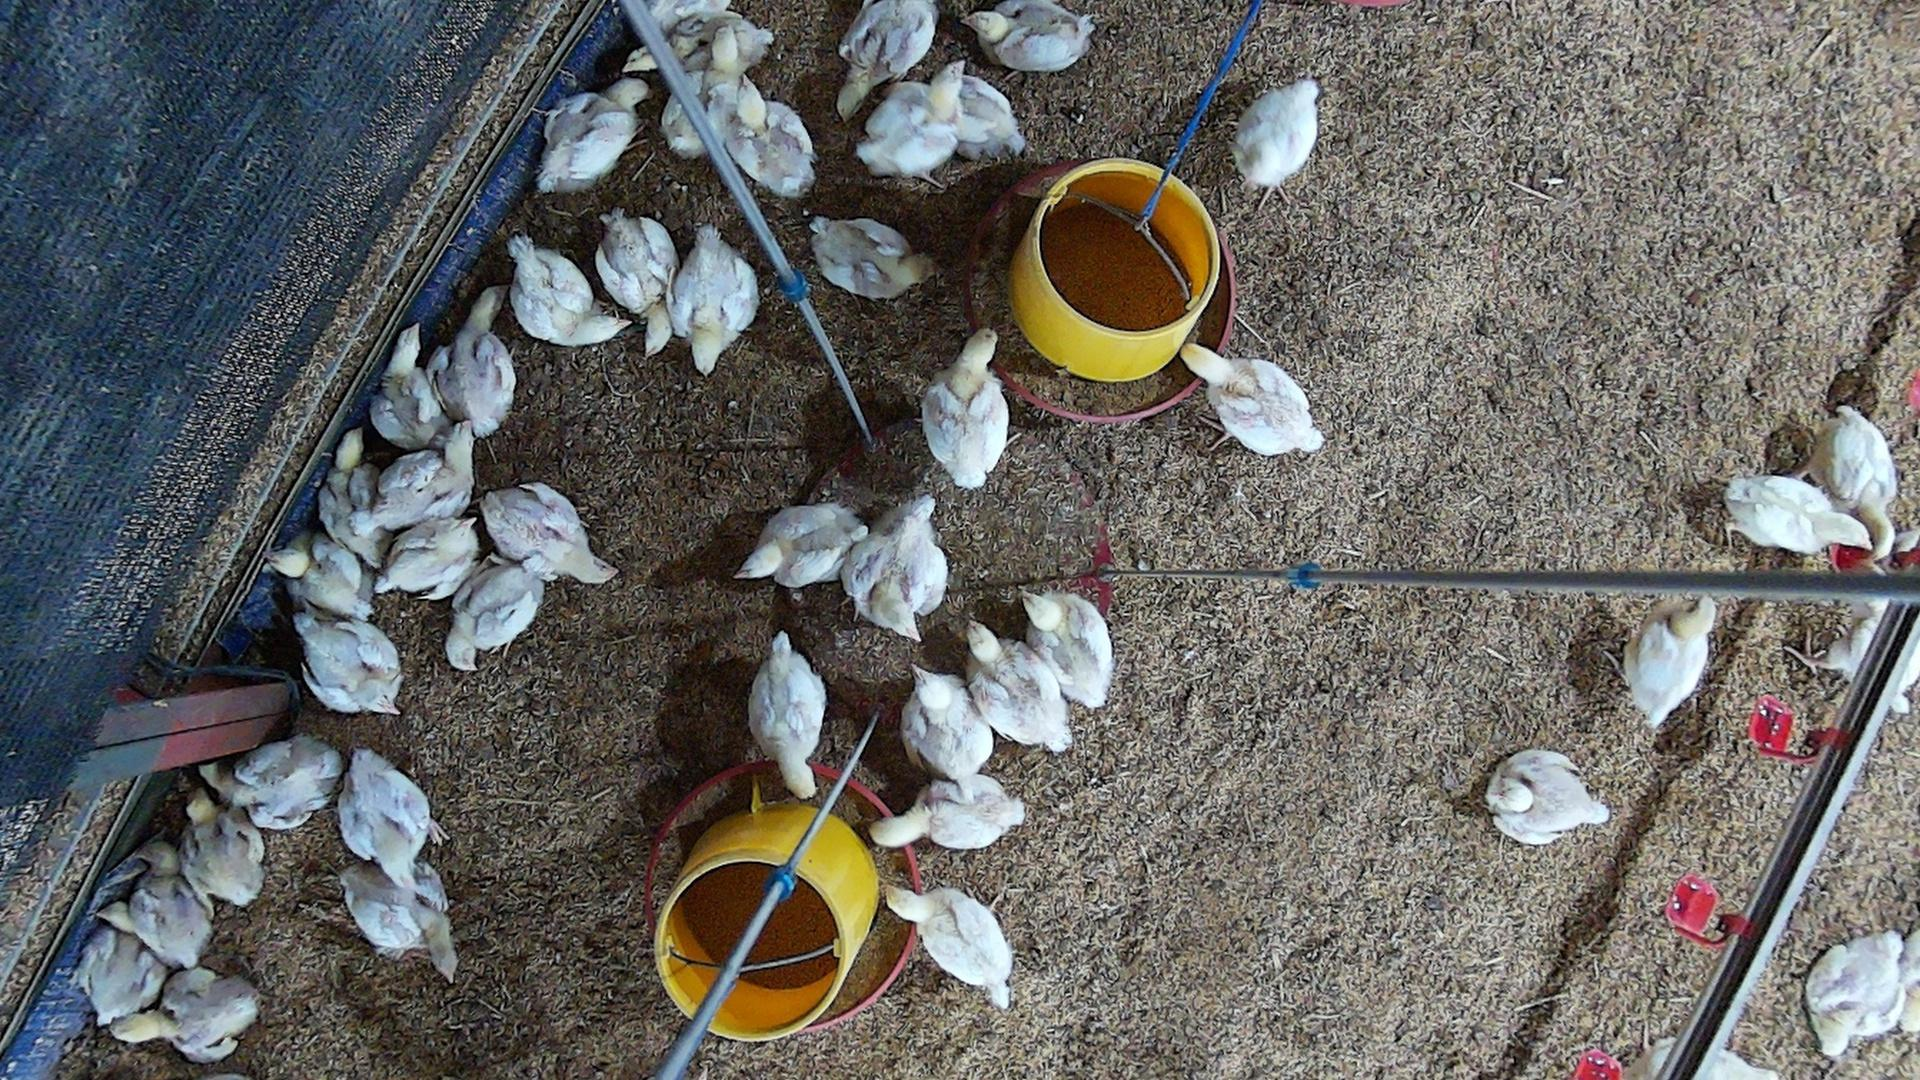ayam_broiler: (884, 884, 1014, 1006), (1182, 343, 1324, 455), (844, 493, 948, 642), (340, 748, 438, 894), (200, 733, 342, 832), (922, 326, 1007, 488), (116, 967, 260, 1063), (1807, 928, 1907, 1065), (667, 223, 757, 373), (339, 865, 455, 981), (965, 624, 1069, 750), (480, 484, 615, 582), (508, 235, 626, 344), (1622, 593, 1716, 732), (748, 630, 824, 798), (538, 75, 647, 191), (1725, 472, 1874, 556), (712, 79, 816, 198), (661, 22, 746, 162), (95, 868, 214, 968), (738, 501, 873, 589), (856, 70, 963, 181), (837, 0, 936, 119), (1485, 750, 1607, 844), (876, 774, 1025, 849), (295, 612, 402, 713), (1025, 592, 1114, 711), (446, 286, 517, 435), (901, 670, 994, 782), (446, 562, 545, 667), (1833, 406, 1902, 558), (372, 434, 473, 534), (368, 320, 444, 452), (808, 215, 928, 297), (73, 922, 164, 1027), (626, 13, 774, 78), (182, 790, 265, 905), (595, 210, 678, 324), (1234, 78, 1317, 187), (318, 438, 386, 566), (969, 1, 1092, 71), (377, 518, 476, 600), (272, 539, 373, 618), (944, 63, 1027, 160)
